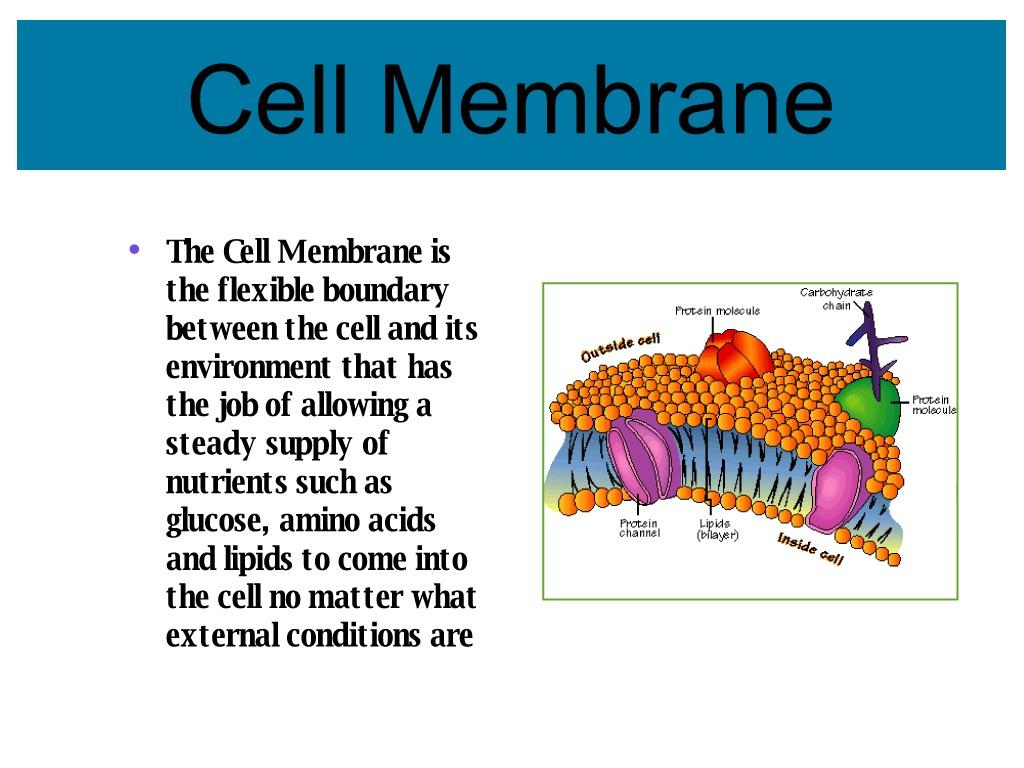paragraph: (154, 223, 515, 672)
title: (184, 44, 847, 160)
